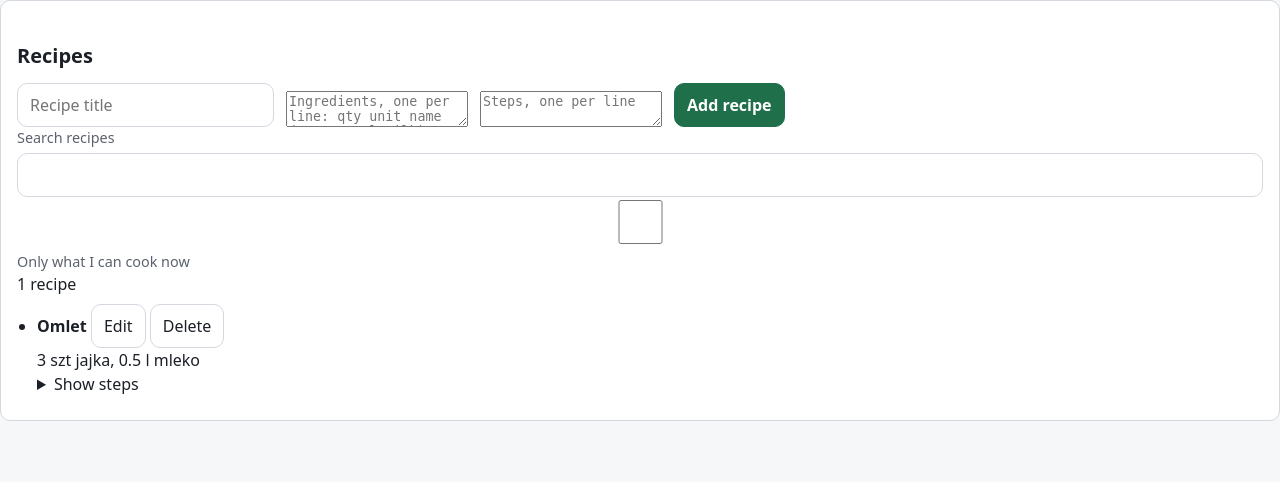
Test: RecipesView editing › cancels without saving
The width and height of the screenshot is (1280, 482).
Click the button with aria-label "Edit Omlet". click: (118, 326)
box: top-left (91, 304), bottom-right (146, 348)
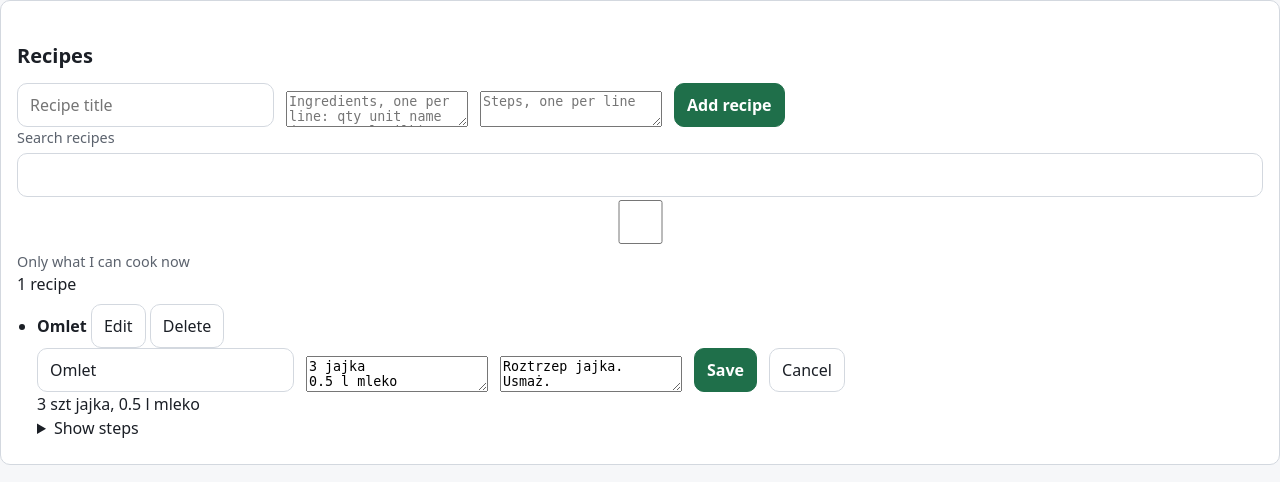
Replace the text in the field named "Recipe title" with "Cokolwiek". click: (166, 370)
box: top-left (37, 348), bottom-right (294, 392)
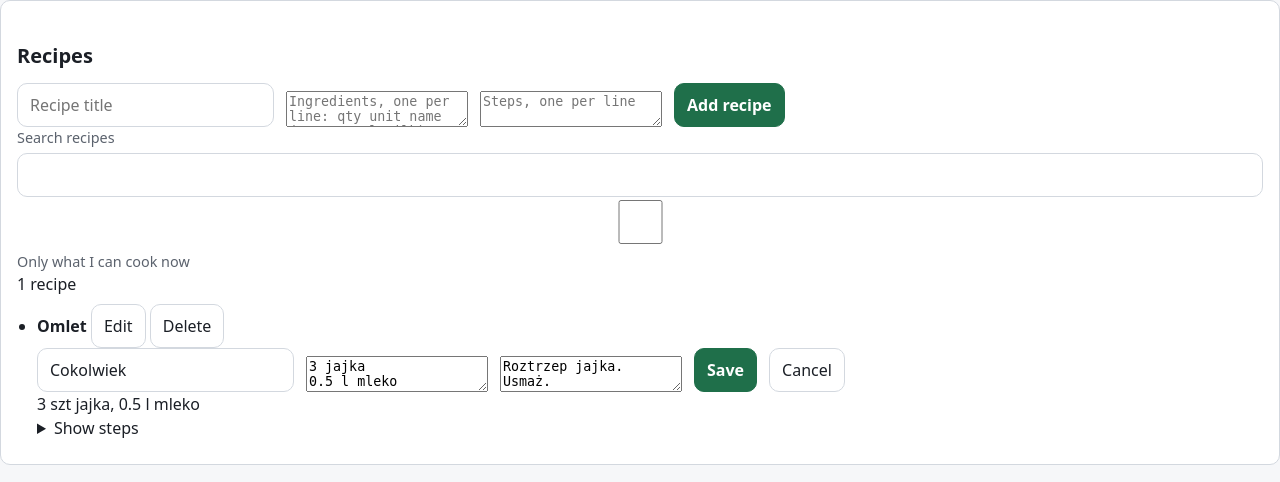
Click the button "Cancel". click: (807, 370)
box: top-left (769, 348), bottom-right (845, 392)
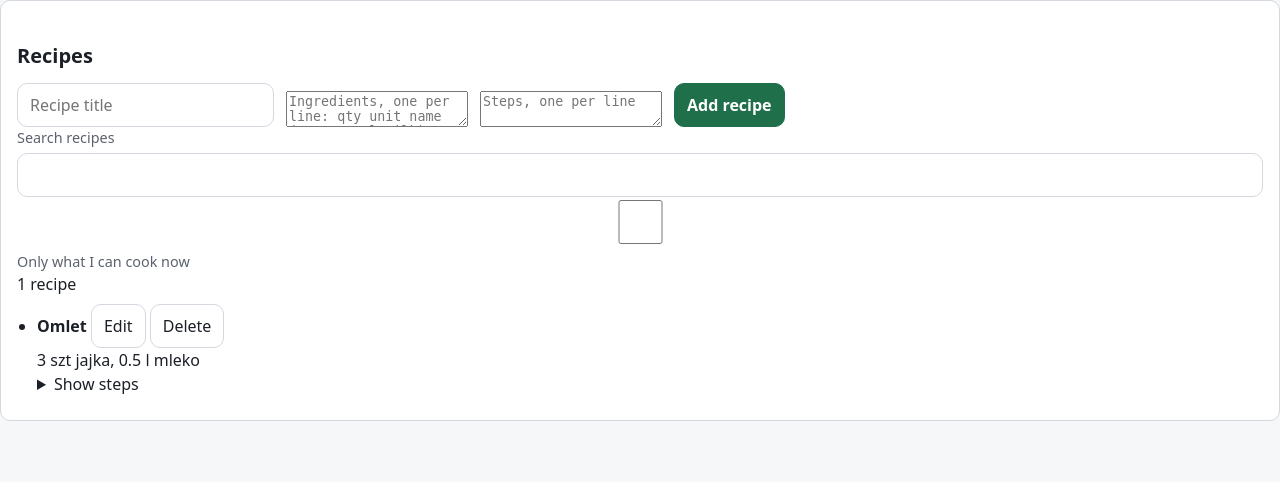
Expected: the text "Omlet" is shown, top-left (37, 315), bottom-right (87, 337)
Result: the button "Save" is gone
